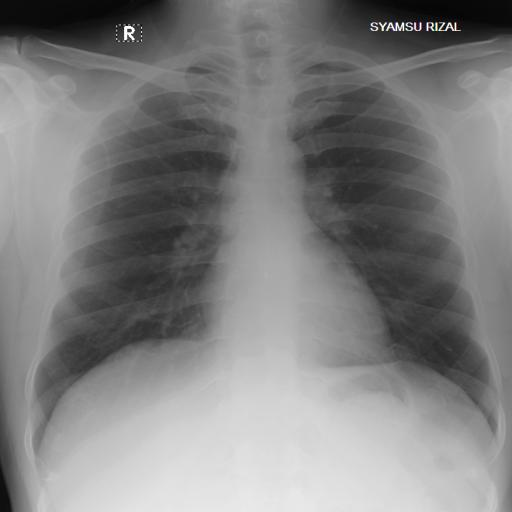normal: (27, 36, 507, 453)
